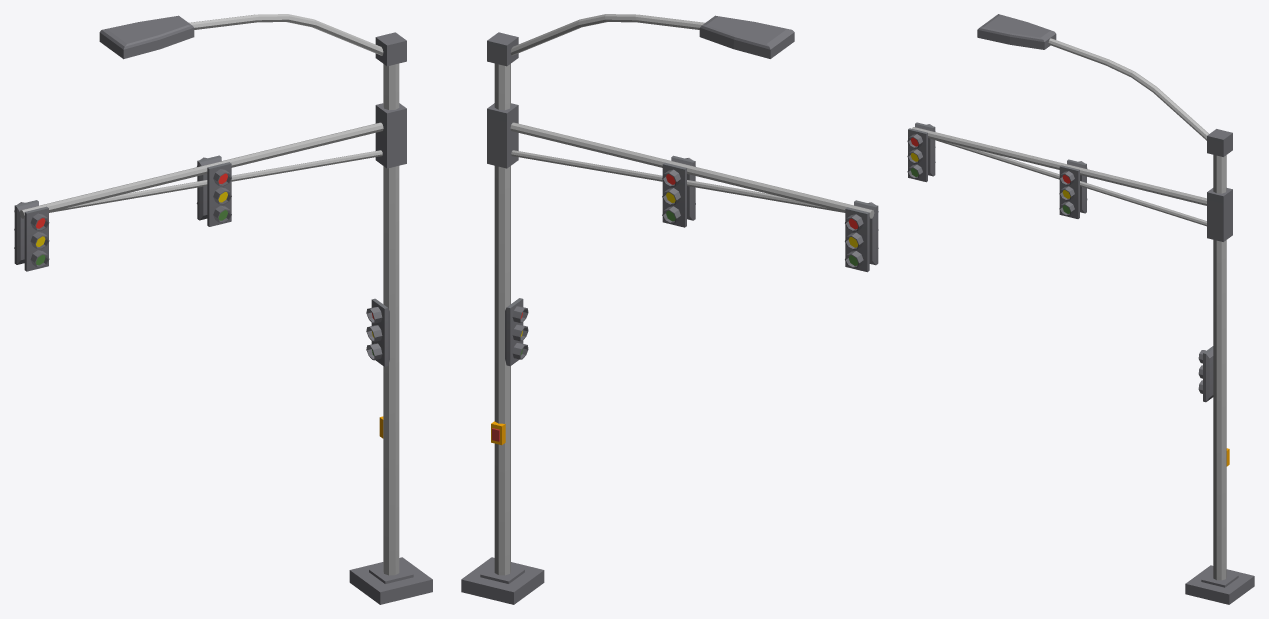
Rendered from Light_02.fbx.
3 views of the same model, side by side, from view 1: azimuth 30°, elevation 25°; view 2: azimuth 150°, elevation 25°; view 3: azimuth 330°, elevation 25° (orthographic). The views are drawn at different scales.
Parts seen in each view (by area): view 1: Light_02; view 2: Light_02; view 3: Light_02.
Part boxes in pixels (box(x1,y1,x2,y2)): Light_02: box(14, 14, 432, 604); Light_02: box(461, 14, 878, 604); Light_02: box(907, 14, 1254, 604).
Size of the model in its own units: 313 by 466 by 41.56.
